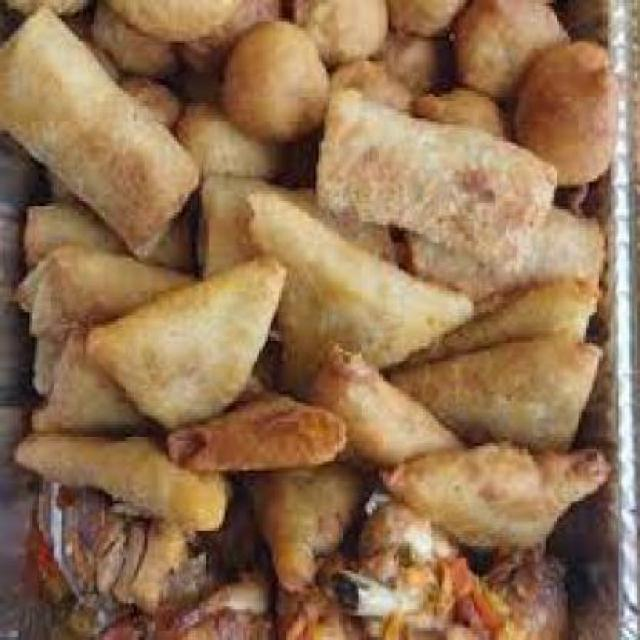samosa: (18, 190, 611, 524)
spring rolls: (324, 108, 608, 280), (6, 9, 180, 237)
